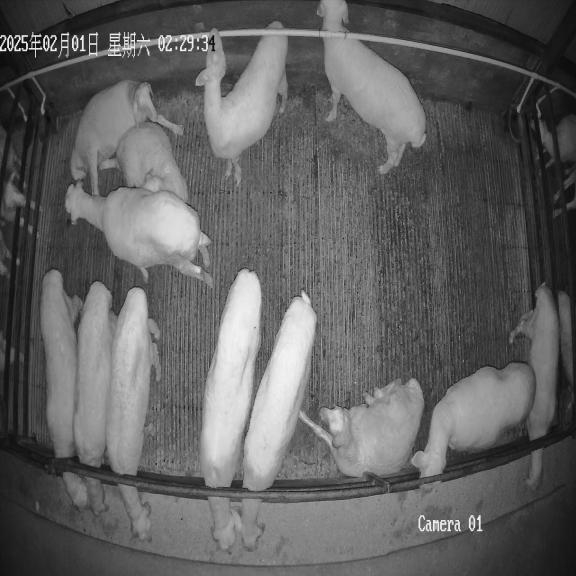eating: (243, 294, 317, 549), (200, 269, 262, 551), (412, 362, 535, 495), (106, 287, 161, 540), (40, 270, 89, 509), (509, 283, 560, 490), (73, 281, 115, 515)
lying: (70, 80, 183, 195), (299, 379, 424, 478), (100, 122, 188, 202)
stand: (317, 0, 426, 174), (65, 182, 213, 286), (196, 28, 288, 186), (268, 21, 283, 29)
